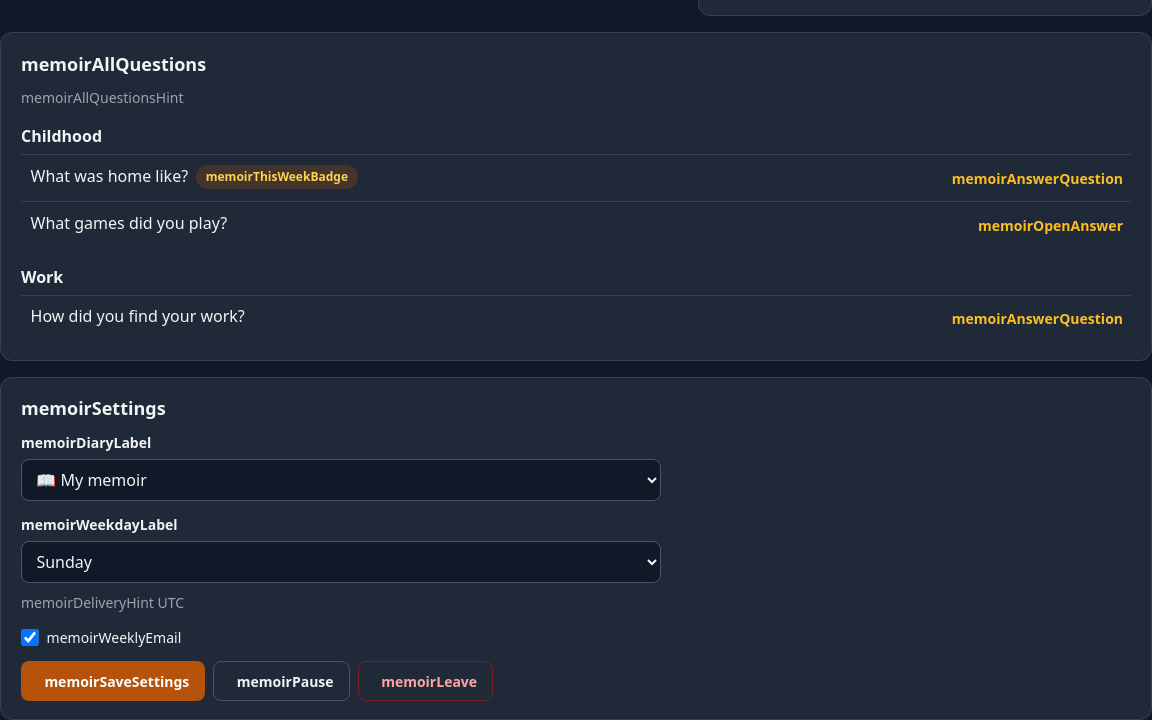
Test: MemoirPage › reports a failed settings change
(page scrolled)
Click the button "memoirSaveSettings" at (113, 682), box top-left (21, 662), bottom-right (206, 702)
(page scrolled)
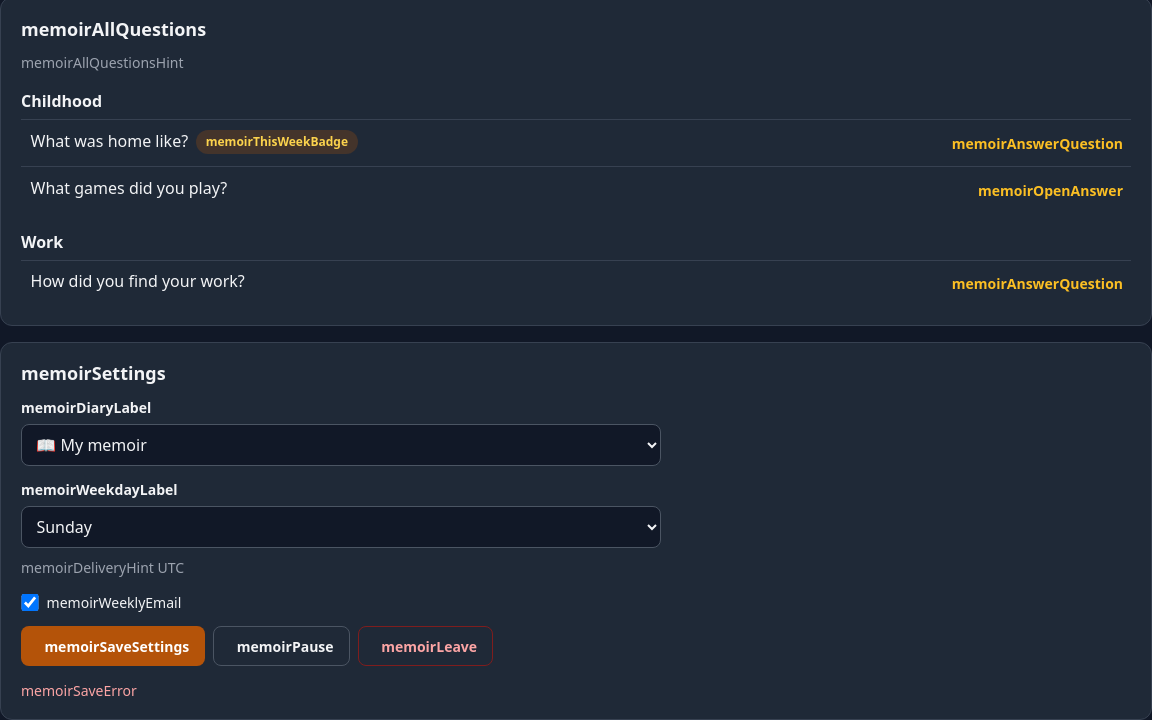
Now the message reads "memoirSaveError", box top-left (21, 681), bottom-right (137, 700)
